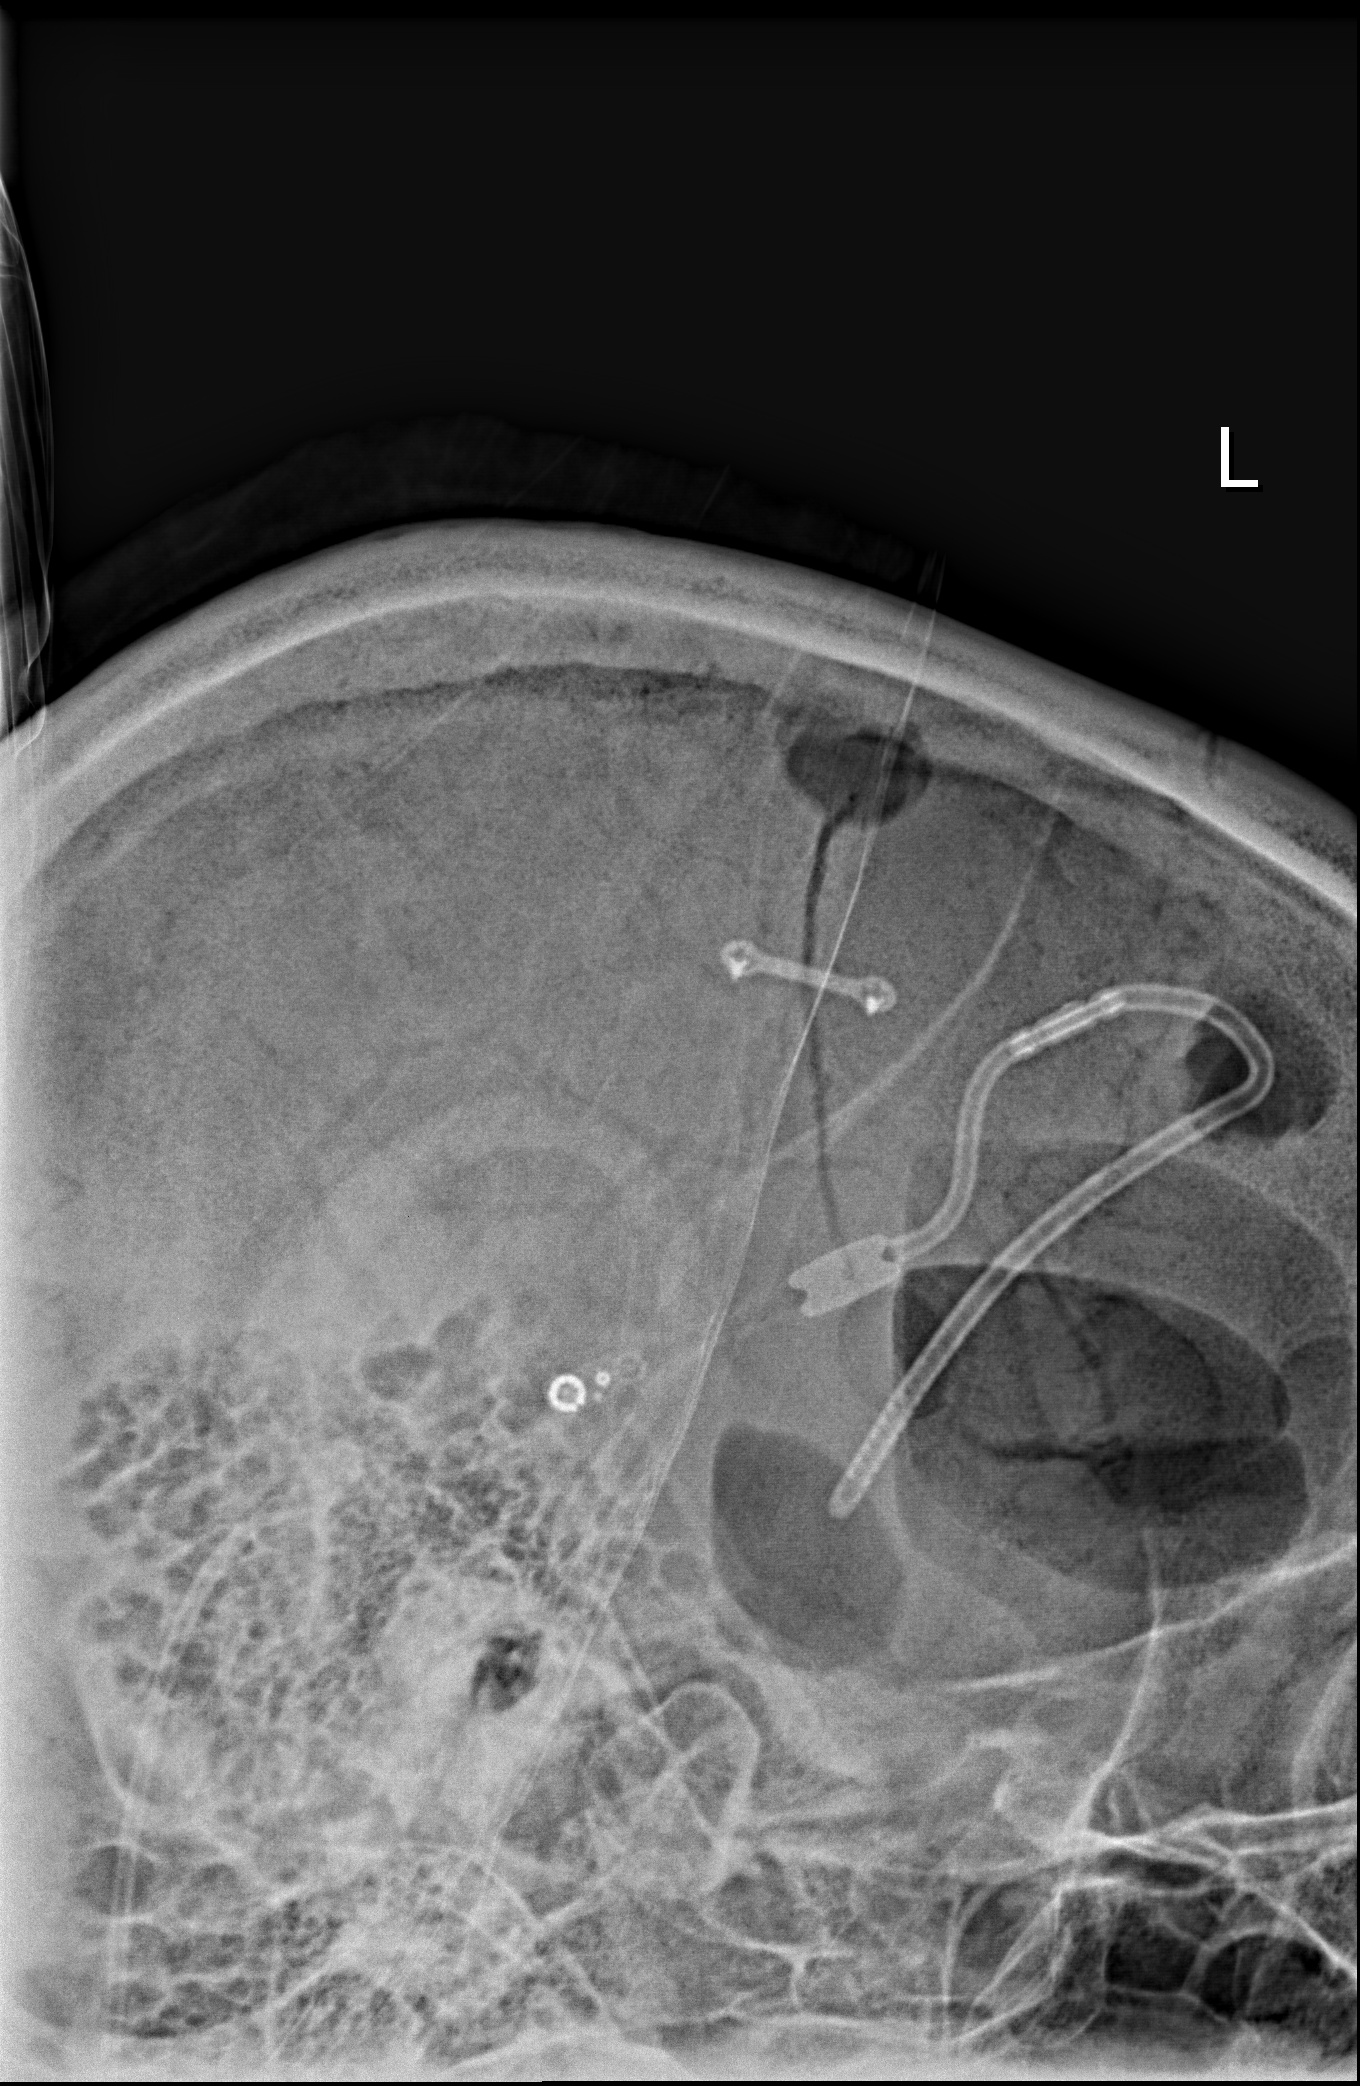Codman Hakim: (529, 1336, 653, 1422)
